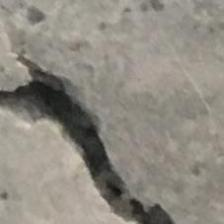Crack: (0, 52, 194, 223)
